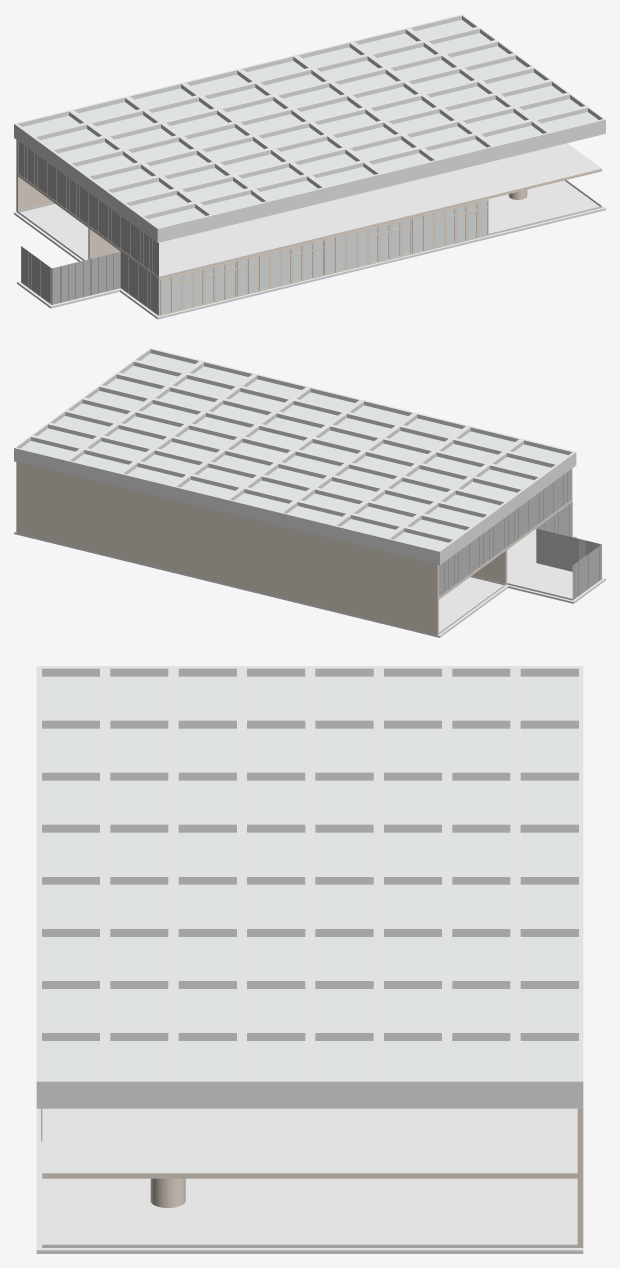
File: museu.fbx
The picture shows the model from 3 angles, top to bottom: view 1: azimuth 30°, elevation 25°; view 2: azimuth 150°, elevation 25°; view 3: azimuth 270°, elevation 25°; orthographic projection. The views are drawn at different scales.
Visible parts, largest first — view 1: Ceiling-Wood, Ceiling-glass, 2-Floor.002, Window-Glass, Floor, Wall-Wood-bottom, Wall-Wood-top, Window-plastic, Window, Ceiling.001, Wall-2, Trim (+1 smaller); view 2: Ceiling-Wood, Ceiling-glass, Wall-2, Floor, Wall-Wood-top, Wall-Wood-bottom, Wall-1.002, Ceiling.001; view 3: Ceiling-glass, Ceiling-Wood, Floor, 2-Floor.002, Ceiling.001, Trim, Pillar, Wall-2.
Boxes of the visible parts, x1,y1,x2,y2 form: Ceiling-Wood: (14, 14, 605, 242); Ceiling-glass: (17, 20, 598, 230); 2-Floor.002: (19, 143, 601, 276); Window-Glass: (161, 201, 487, 313); Floor: (14, 180, 605, 319); Wall-Wood-bottom: (21, 246, 158, 315); Wall-Wood-top: (18, 141, 158, 276); Window-plastic: (161, 200, 487, 314); Window: (159, 199, 488, 315); Ceiling.001: (18, 169, 601, 279); Wall-2: (16, 140, 53, 212); Trim: (18, 180, 601, 260); Ceiling-Wood: (14, 348, 576, 565); Ceiling-glass: (21, 353, 568, 550); Wall-2: (16, 461, 438, 635); Floor: (14, 529, 605, 637); Wall-Wood-top: (439, 469, 572, 596); Wall-Wood-bottom: (536, 502, 601, 599); Wall-1.002: (472, 550, 507, 585); Ceiling.001: (439, 500, 572, 599); Ceiling-glass: (42, 676, 578, 1080); Ceiling-Wood: (36, 666, 583, 1108); Floor: (36, 1108, 583, 1253); 2-Floor.002: (42, 1108, 577, 1173); Ceiling.001: (42, 1173, 577, 1178); Trim: (42, 1179, 577, 1247); Pillar: (150, 1178, 185, 1207); Wall-2: (577, 1108, 583, 1247).
Bounding box in the file's own units: 51.92 × 8.69 × 25.
